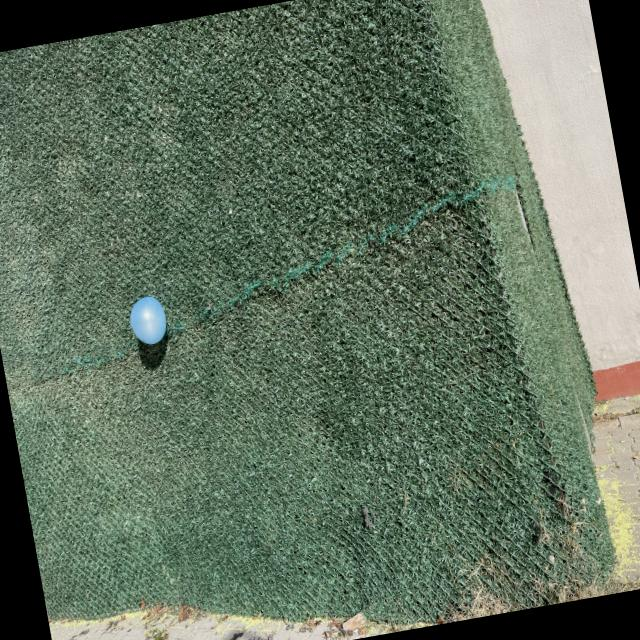balloon: (130, 296, 166, 344)
